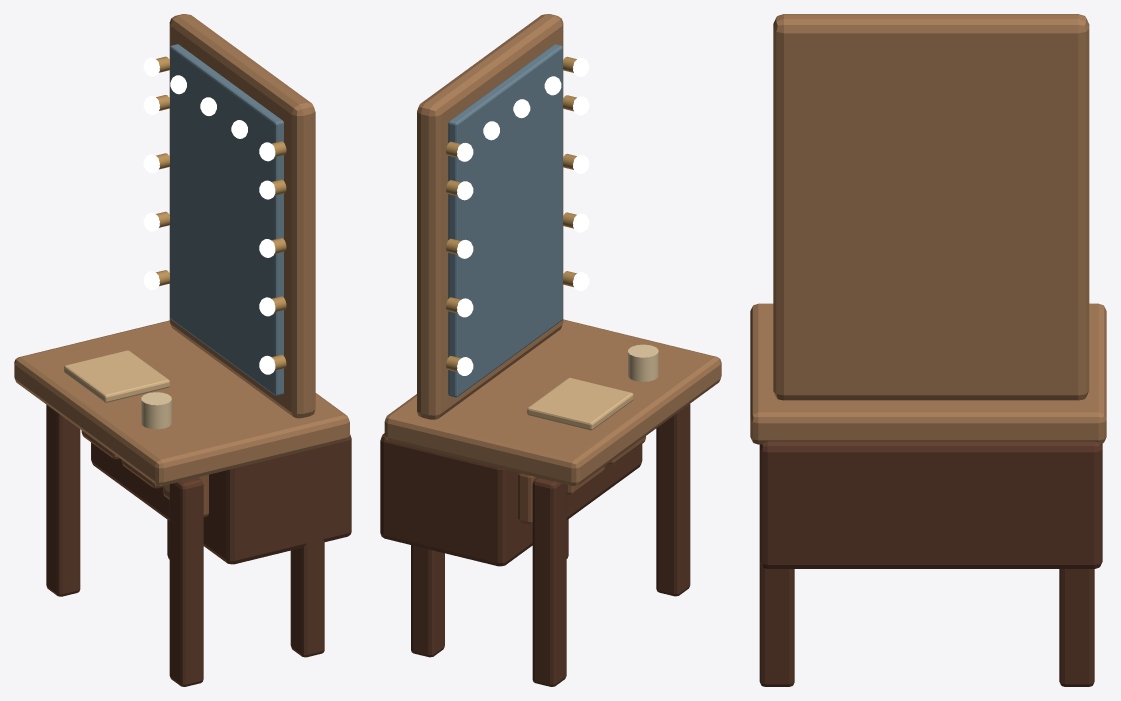
Rendered from SM_Menu_DressingStation.fbx.
The picture shows the model from 3 angles, left to right: view 1: azimuth 30°, elevation 25°; view 2: azimuth 150°, elevation 25°; view 3: azimuth 270°, elevation 25°; orthographic projection. The views are drawn at different scales.
Parts seen in each view (by area): view 1: SM_Menu_DressingStation; view 2: SM_Menu_DressingStation; view 3: SM_Menu_DressingStation.
Part boxes in pixels (box(x1,y1,x2,y2)): SM_Menu_DressingStation: box(14, 14, 351, 686); SM_Menu_DressingStation: box(380, 14, 721, 686); SM_Menu_DressingStation: box(750, 14, 1106, 686).
Bounding box in the file's own units: 104 × 132 × 272.
